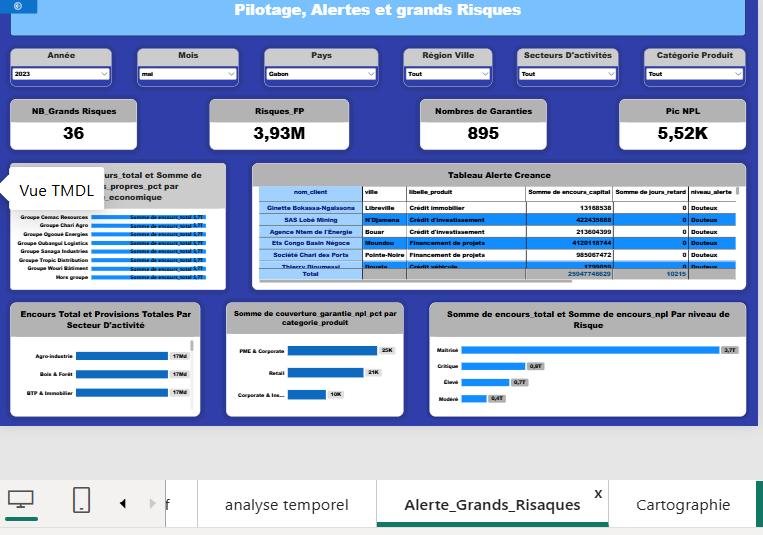

The dashboard page shown, as its layout file describes it:
{"tool":"powerbi","page":{"name":"Alerte_Grands_Risaques","canvas":[1920,1080],"ordinal":2},"visuals":[{"type":"textbox","box":[32,0,1856,96],"z":0},{"type":"slicer","title":"Année ","fields":{"Values":["public dim_date.date_complet.Variation.Hiérarchie de dates.Année"]},"box":[32,128,256,96],"z":1000},{"type":"slicer","title":"Pays ","fields":{"Values":["public dim_agences.pays"]},"box":[672,128,288,96],"z":2000},{"type":"slicer","title":"Catégorie Produit ","fields":{"Values":["public dim_produits.categorie_produit"]},"box":[1632,128,256,96],"z":3000},{"type":"slicer","title":"Secteurs D''activités ","fields":{"Values":["public dim_clients.secteur_activite"]},"box":[1312,128,256,96],"z":4000},{"type":"actionButton","box":[0,0,100,40],"z":5000},{"type":"card","title":"NB_Grands Risques ","fields":{"Values":["Count(public vw_grands_risques.total_grands_risques)"]},"box":[32,256,320,128],"z":6000},{"type":"card","title":" Risques_FP","fields":{"Values":["Sum(public vw_grands_risques.total_grands_risques_sur_fp_pct)"]},"box":[533.3,256,352,128],"z":7000},{"type":"card","title":"Nombres de Garanties ","fields":{"Values":["Sum(public vw_garanties_recouvrements.nb_garanties_saisies)"]},"box":[1066.7,256,320,128],"z":8000},{"type":"card","title":"Pic NPL ","fields":{"Values":["Sum(public vw_cohortes_octroi.pic_npl_cohorte_pct)"]},"box":[1568,256,320,128],"z":9000},{"type":"barChart","fields":{"Category":["public dim_clients.groupe_economique"],"Y":["Sum(public vw_grands_risques.encours_total)"]},"box":[32,416,544,320],"z":10000},{"type":"clusteredBarChart","title":"Encours Total et Provisions Totales Par Secteur D''activité ","fields":{"Category":["public dim_clients.secteur_activite"],"Y":["Mesures.Encours Total"]},"box":[32,768,480,288],"z":11000},{"type":"tableEx","title":"Tableau Alerte Creance","fields":{"Values":["public vw_alertes_creances.nom_client","public vw_alertes_creances.ville","public vw_alertes_creances.libelle_produit","Sum(public vw_alertes_creances.encours_capital)","Sum(public vw_alertes_creances.jours_retard)","public vw_alertes_creances.niveau_alerte","Sum(public vw_alertes_creances.couverture_garantie_pct)","Sum(public vw_alertes_creances.taux_provisionnement_pct)"]},"box":[640,416,1248,320],"z":12000},{"type":"barChart","fields":{"Category":["public vw_garanties_recouvrements.categorie_produit"],"Y":["Sum(public vw_garanties_recouvrements.couverture_garantie_npl_pct)"]},"box":[576,768,448,288],"z":13000},{"type":"slicer","title":" Région Ville ","fields":{"Values":["public dim_agences.pays Hiérarchie.region","public dim_agences.pays Hiérarchie.ville"]},"box":[1024,128,224,96],"z":14000},{"type":"clusteredBarChart","title":"Somme de encours_total et Somme de encours_npl Par niveau de  Risque","fields":{"Category":["public vw_classement_agences.niveau_risque"],"Y":["Sum(public vw_classement_agences.encours_total)"]},"box":[1088,768,800,288],"z":14001},{"type":"slicer","title":"Mois","fields":{"Values":["public dim_date.date_complet.Variation.Hiérarchie de dates.Mois"]},"box":[352,128,256,96],"z":14002}]}

Visuals, with their boxes on the page's 1920x1080 design canvas (x1, y1, x2, y2). These are canvas units, not pixel positions in the 763x535 screenshot, which may show the page scaled, cropped or inside an application window:
textbox: 32:0:1888:96
"Année " slicer: 32:128:288:224
"Pays " slicer: 672:128:960:224
"Catégorie Produit " slicer: 1632:128:1888:224
"Secteurs D''activités " slicer: 1312:128:1568:224
actionButton: 0:0:100:40
"NB_Grands Risques " card: 32:256:352:384
" Risques_FP" card: 533:256:885:384
"Nombres de Garanties " card: 1067:256:1387:384
"Pic NPL " card: 1568:256:1888:384
barChart - public dim_clients.groupe_economique x Sum(public vw_grands_risques.encours_total): 32:416:576:736
"Encours Total et Provisions Totales Par Secteur D''activité " clusteredBarChart: 32:768:512:1056
"Tableau Alerte Creance" tableEx: 640:416:1888:736
barChart - public vw_garanties_recouvrements.categorie_produit x Sum(public vw_garanties_recouvrements.couverture_garantie_npl_pct): 576:768:1024:1056
" Région Ville " slicer: 1024:128:1248:224
"Somme de encours_total et Somme de encours_npl Par niveau de  Risque" clusteredBarChart: 1088:768:1888:1056
"Mois" slicer: 352:128:608:224
